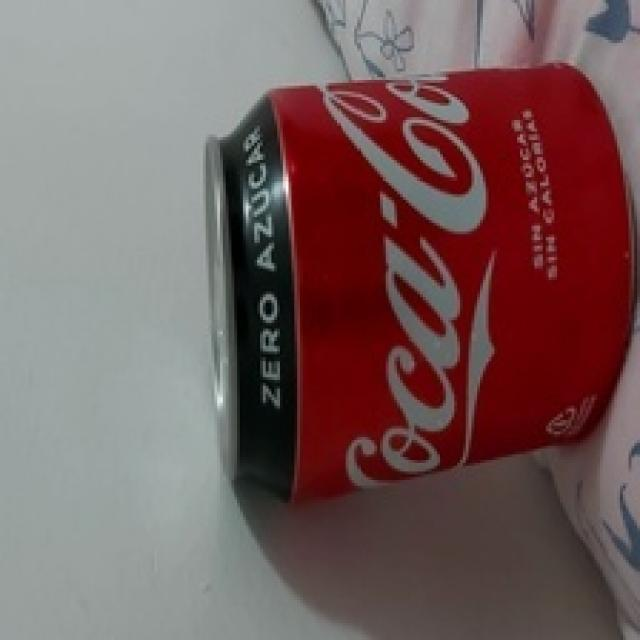recyclable: (198, 60, 640, 504)
